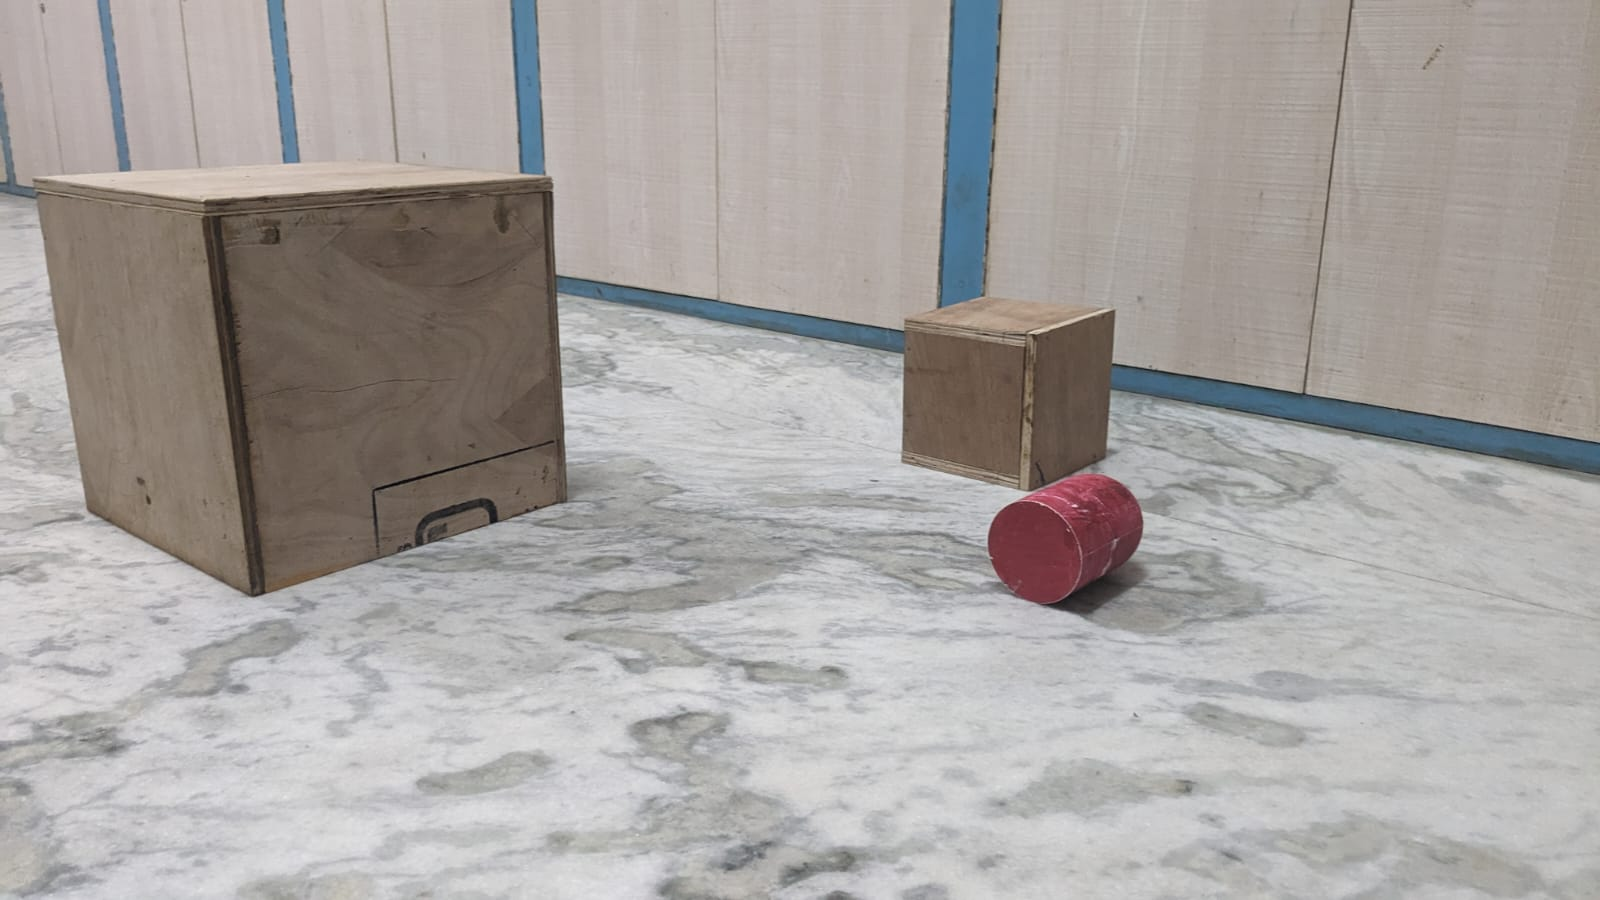150mm obstacle: (892, 289, 1138, 484)
300mm obstacle: (24, 145, 595, 588)
testtube: (976, 469, 1163, 615)
